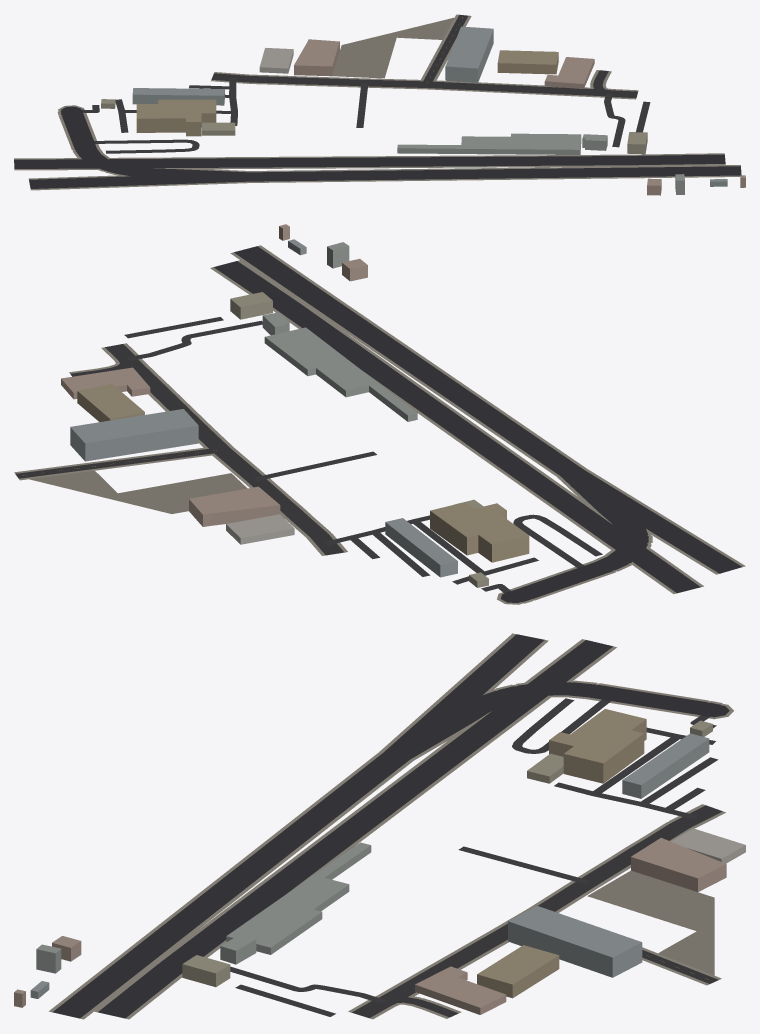
The picture shows the model from 3 angles, top to bottom: view 1: azimuth 30°, elevation 25°; view 2: azimuth 150°, elevation 25°; view 3: azimuth 270°, elevation 25°; orthographic projection. The views are drawn at different scales.
Visible parts, largest first — view 1: tile_-3_0; view 2: tile_-3_0; view 3: tile_-3_0.
Boxes of the visible parts, box(x1,y1,x2,y2) form: tile_-3_0: box(14, 14, 745, 195); tile_-3_0: box(14, 224, 745, 604); tile_-3_0: box(14, 633, 745, 1019).
Bounding box in the file's own units: 408 × 10 × 327.
